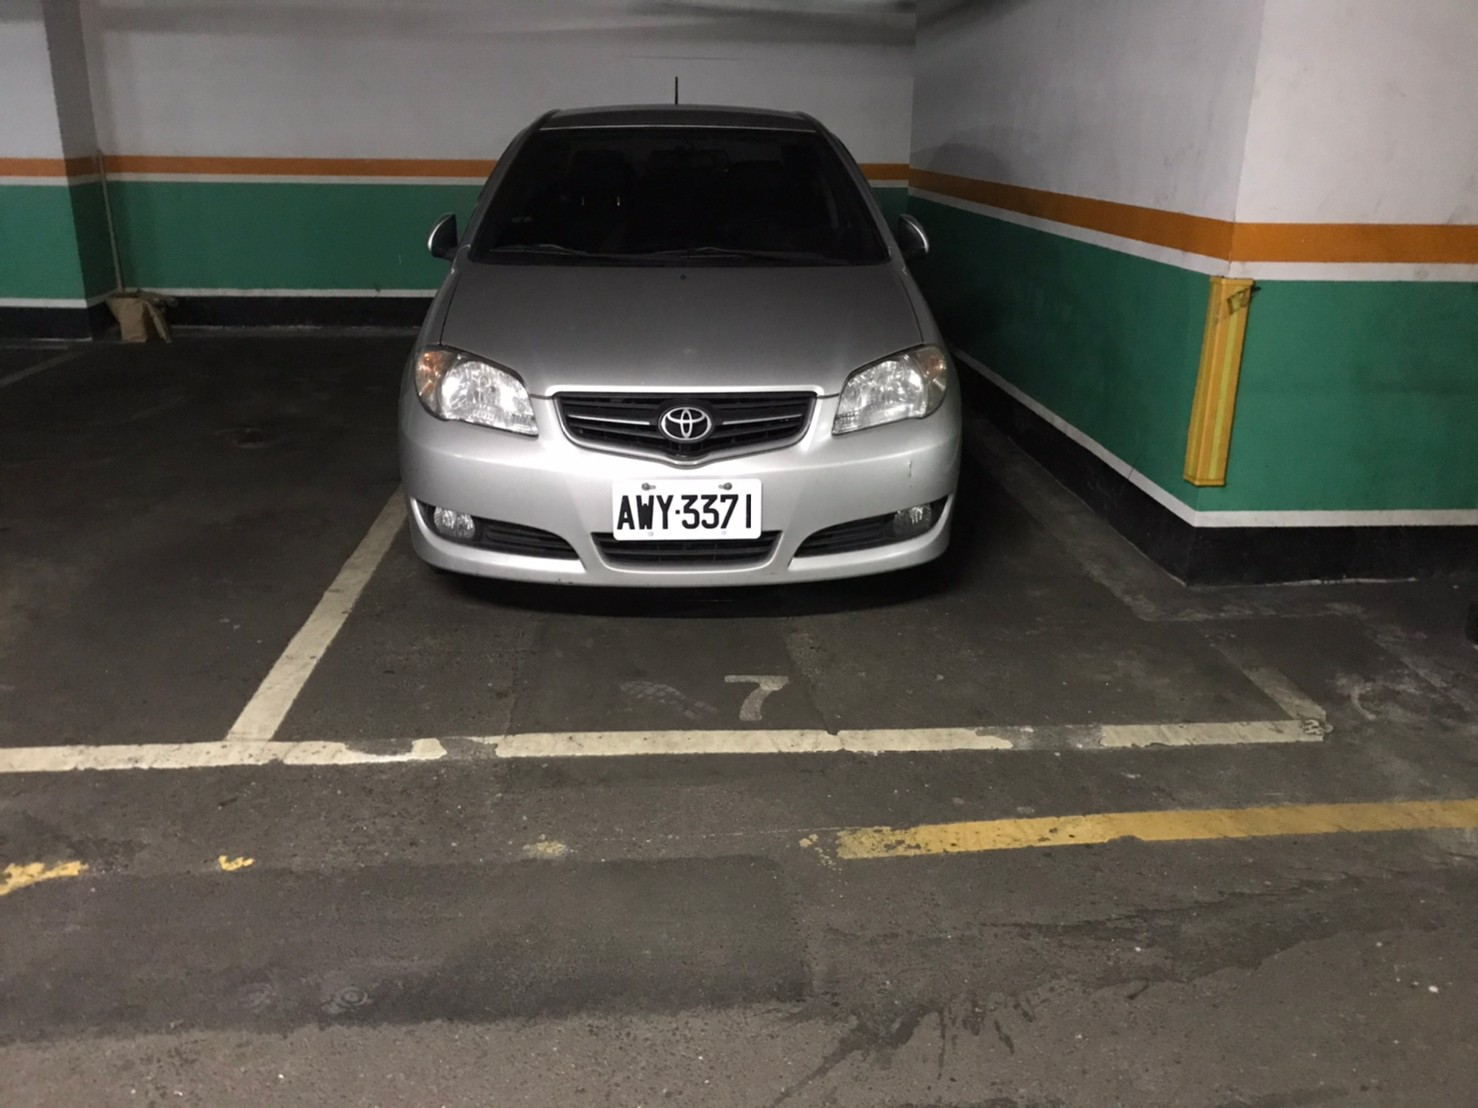LP: (609, 480, 763, 537)
